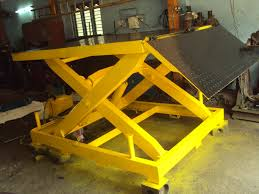Scissor Lift: (8, 22, 259, 192)
